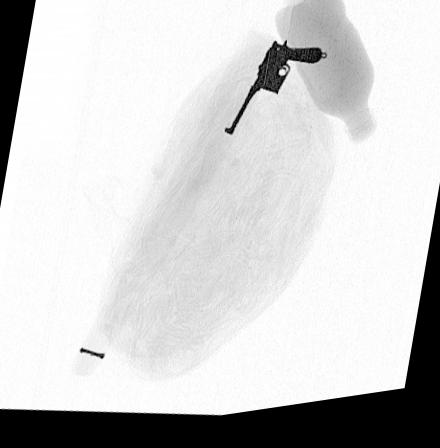Gun: (224, 46, 322, 141)
